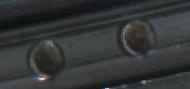joints: (116, 17, 158, 60), (27, 38, 67, 82)
